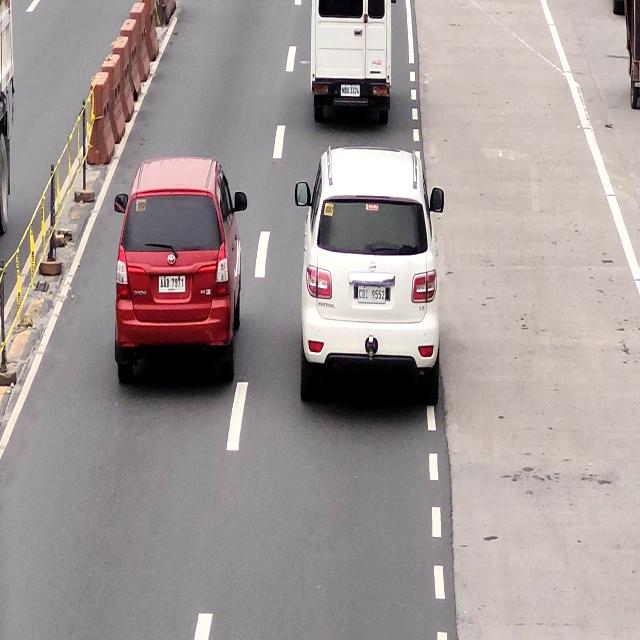Car: (302, 146, 441, 404), (111, 155, 240, 379), (308, 0, 392, 128)
License-Plate: (157, 274, 185, 294), (357, 287, 387, 303), (338, 82, 361, 99)
